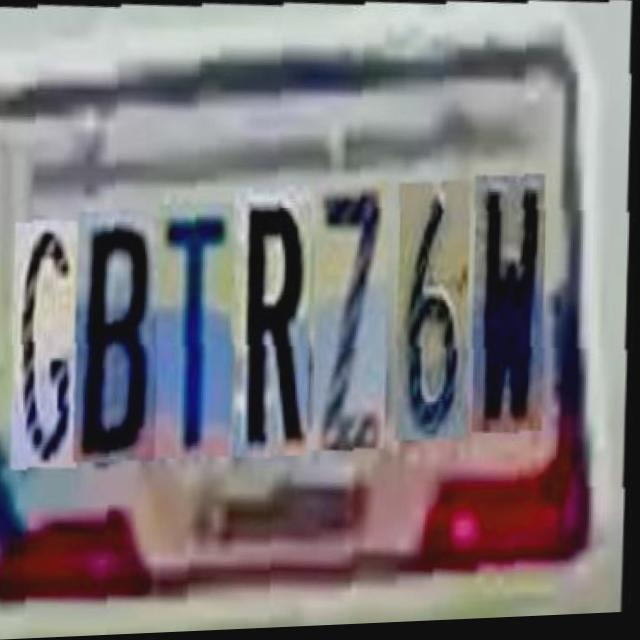6: (395, 170, 471, 433)
b: (72, 188, 160, 446)
g: (10, 197, 81, 449)
r: (232, 170, 312, 446)
t: (154, 184, 234, 443)
w: (471, 166, 547, 428)
z: (311, 168, 388, 441)
